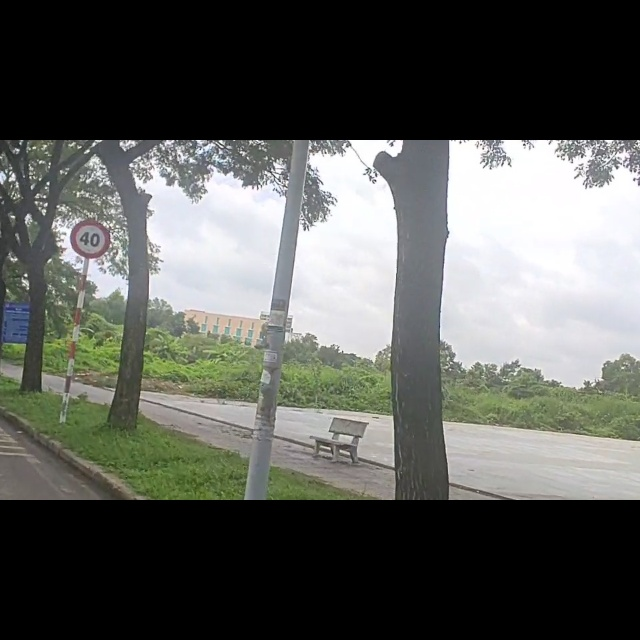Tốc độ tối đa cho phép 40km/h: (70, 217, 110, 260)
